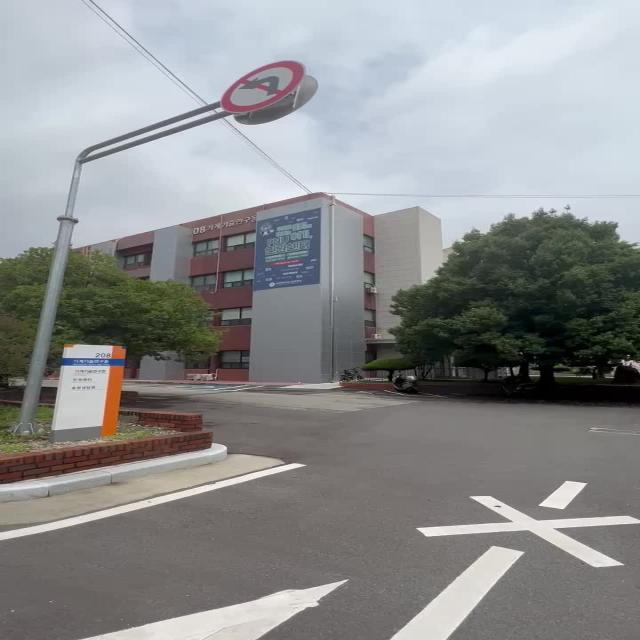building: (197, 203, 384, 383)
